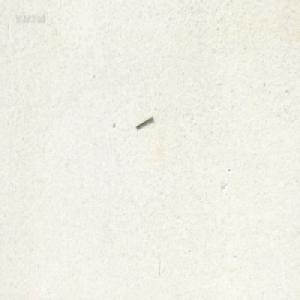Bolt: (134, 114, 152, 128)
